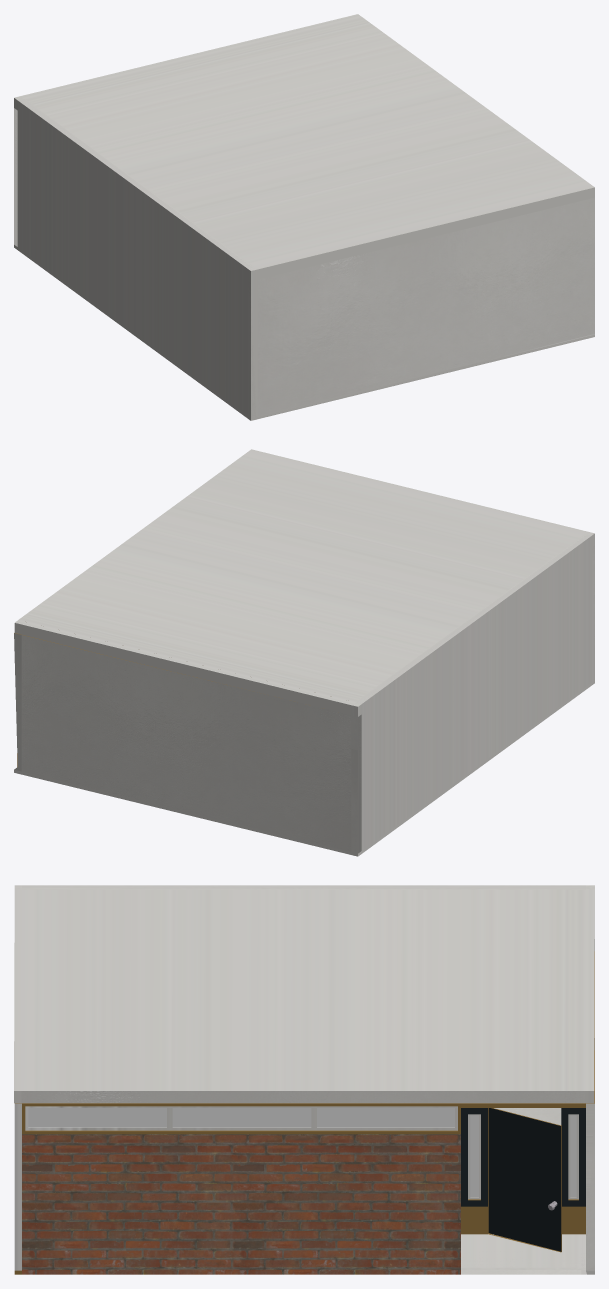
File: aulaactu9BUENA.fbx
3 views of the same model, one above another, from view 1: azimuth 30°, elevation 25°; view 2: azimuth 150°, elevation 25°; view 3: azimuth 270°, elevation 25° (orthographic). The views are drawn at different scales.
Parts seen in each view (by area): view 1: Cube; view 2: Cube; view 3: Cube.
Boxes of the visible parts, x1=… form: Cube: x1=14, y1=14, x2=594, y2=420; Cube: x1=14, y1=449, x2=594, y2=856; Cube: x1=14, y1=885, x2=594, y2=1274.
Bounding box in the file's own units: 1398 × 582 × 1669.
Materials: 12 (3 with a texture image).
